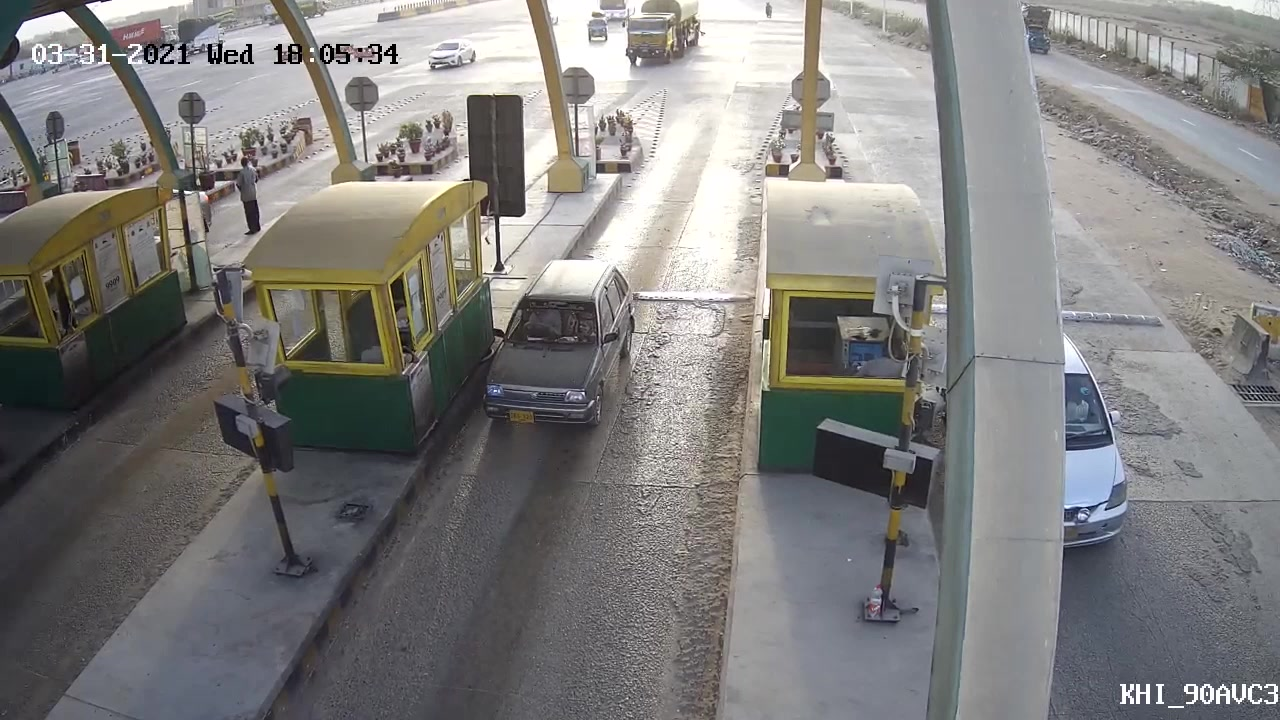F1: (477, 251, 645, 439)
